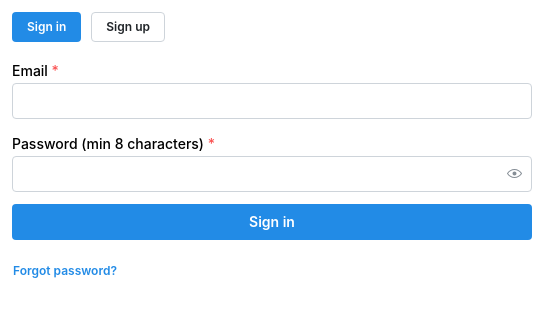
Test: AuthPanel signup › requires explicit data-processing consent
The width and height of the screenshot is (549, 327).
Click the button "Sign up": x=128, y=27 [91,12,165,42]
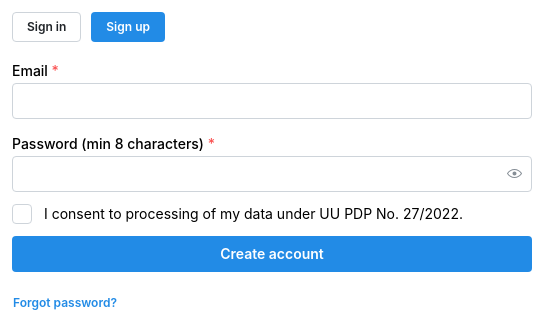
Expected: the checkbox is not checked, [12,204,32,224]
